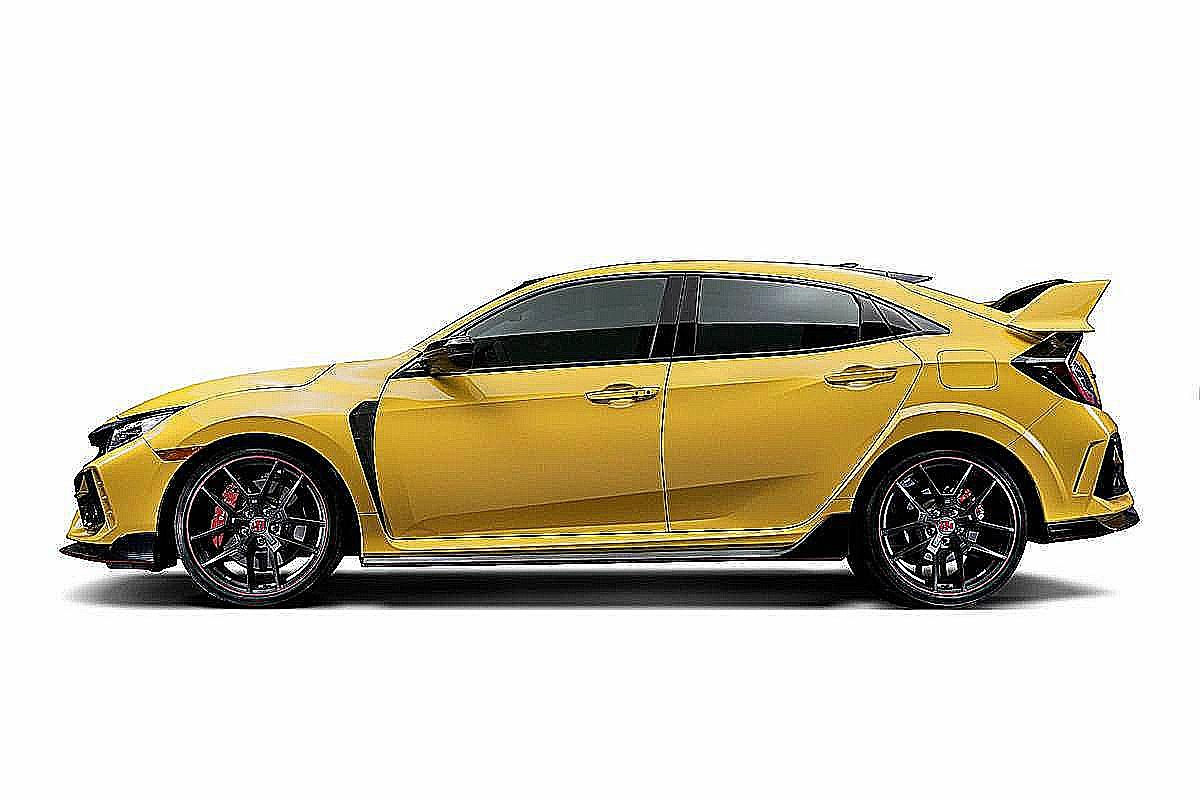Car hood: (101, 363, 337, 424)
Fender - -F-L-: (141, 350, 421, 542)
Fender - -R-L-: (816, 316, 1064, 546)
Front bumper: (53, 447, 190, 577)
Headlight - -L-: (80, 399, 191, 459)
Passenger-s door - -F-L-: (376, 263, 666, 542)
Passenger-s door - -R-L-: (666, 268, 927, 537)
Rear bumper: (1014, 410, 1153, 552)
Rear light - -L-: (1000, 326, 1116, 415)
Side bumper - -L-: (352, 497, 859, 570)
Side mirror - -L-: (414, 326, 484, 386)
